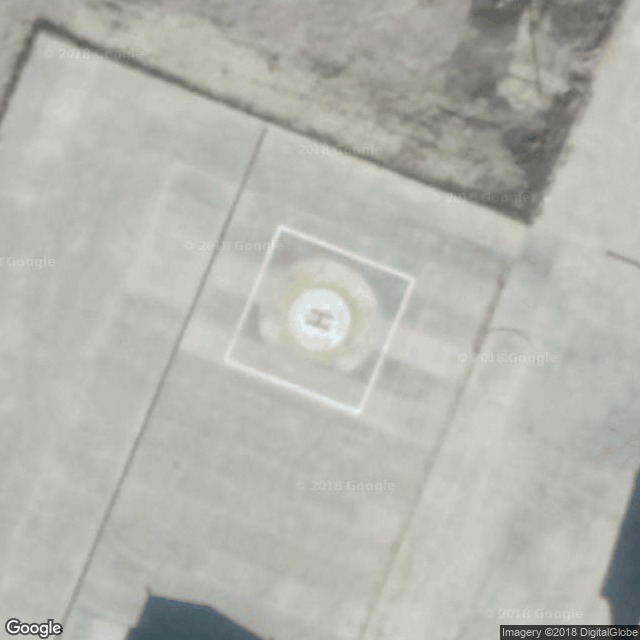heliport: (302, 303, 336, 335)
